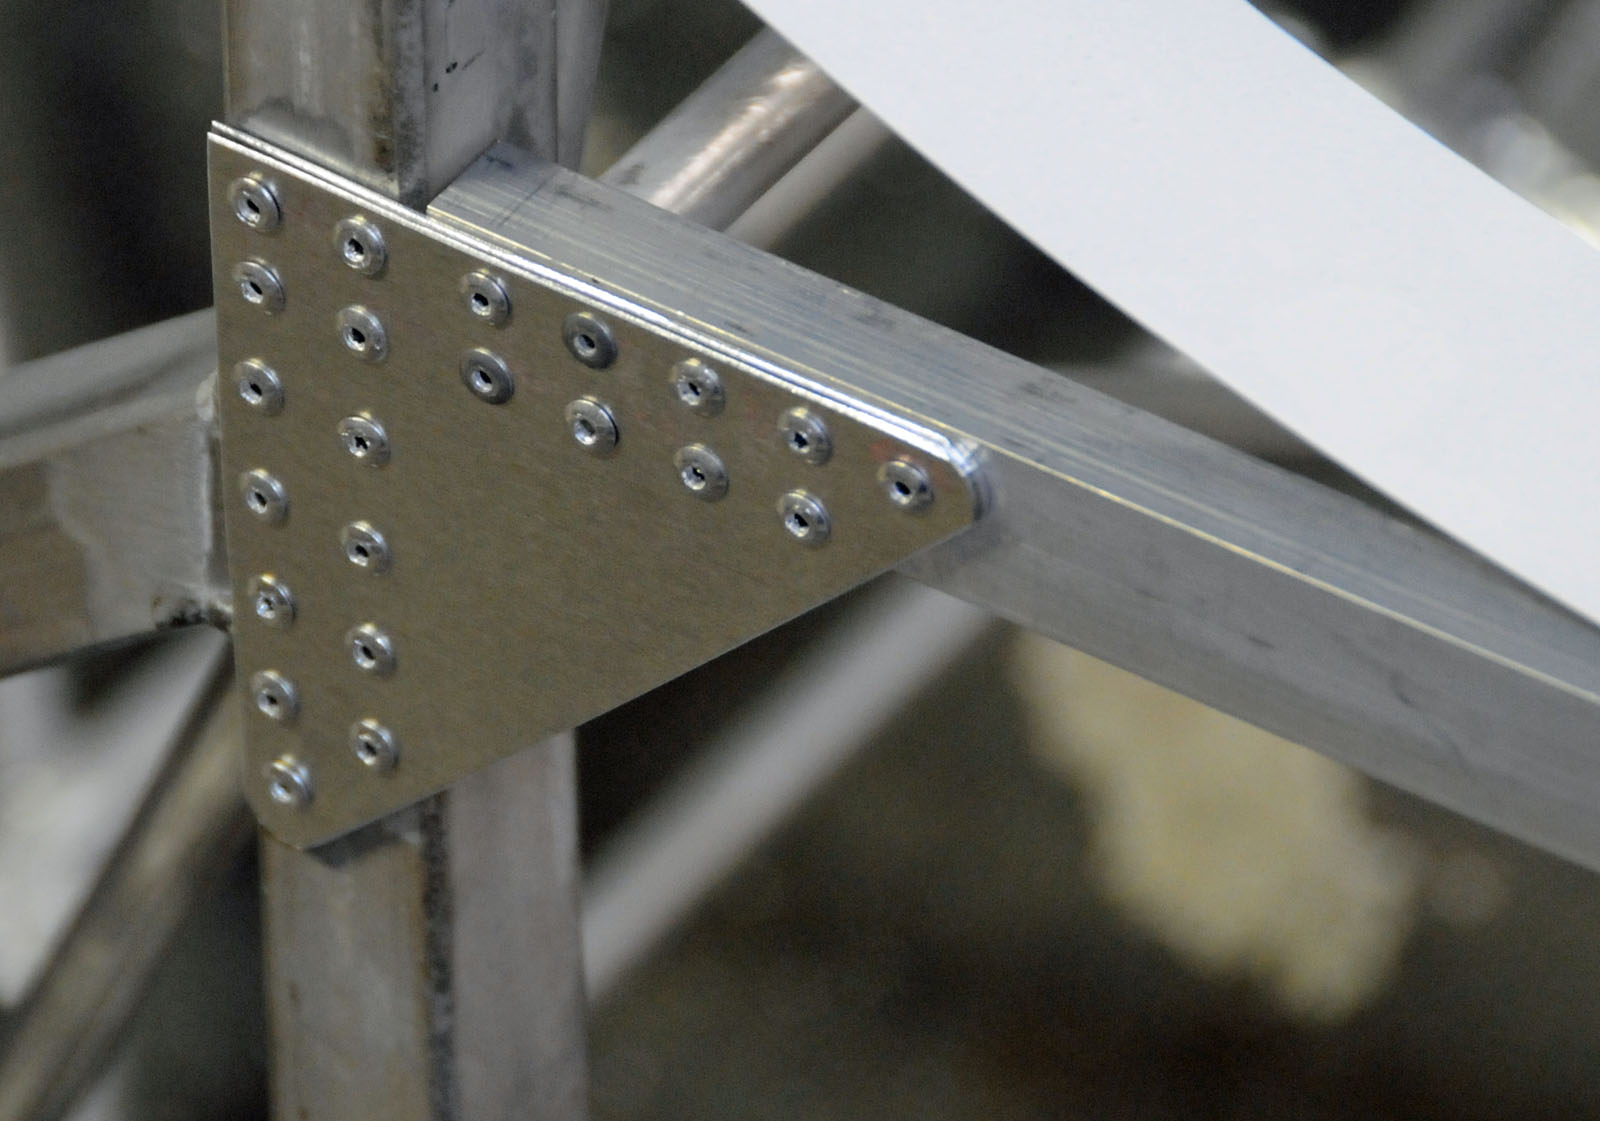rivet: (447, 259, 519, 329), (326, 210, 396, 282), (452, 344, 520, 410), (556, 306, 622, 371), (331, 409, 398, 473), (332, 300, 396, 366), (558, 398, 626, 460), (336, 519, 399, 584), (229, 356, 291, 422), (667, 445, 736, 505), (773, 402, 835, 467), (665, 356, 729, 418), (229, 257, 293, 319), (772, 491, 838, 552), (342, 715, 402, 781), (233, 466, 294, 528), (222, 178, 286, 237), (874, 457, 939, 516), (343, 621, 401, 685), (244, 571, 302, 633), (250, 667, 303, 731), (261, 757, 317, 816)
